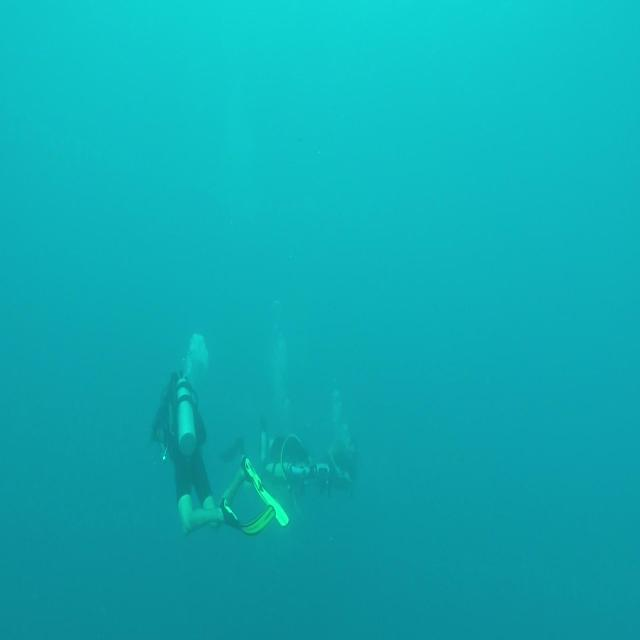human: (150, 369, 288, 537), (258, 416, 330, 498)
